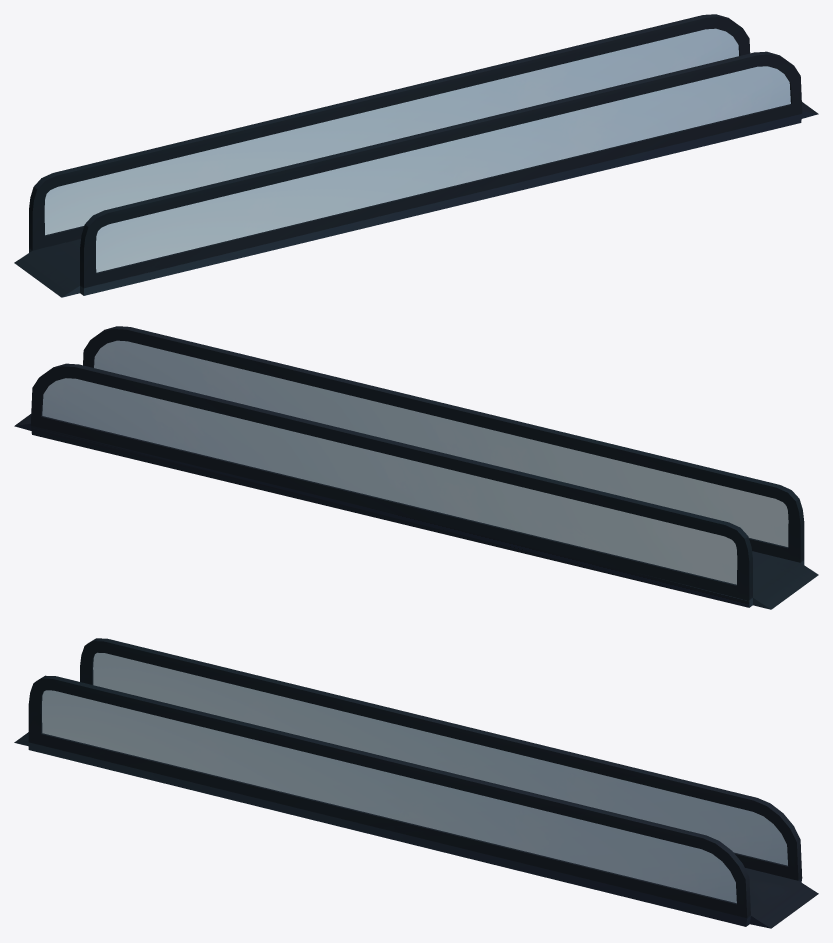
File: autowalk.fbx
3 views of the same model, one above another, from view 1: azimuth 30°, elevation 25°; view 2: azimuth 150°, elevation 25°; view 3: azimuth 330°, elevation 25° (orthographic).
Visible parts, largest first — view 1: Cube.004; view 2: Cube.004; view 3: Cube.004.
Part boxes in pixels (x1,y1,x2,y2): Cube.004: [14, 14, 818, 297]; Cube.004: [14, 326, 818, 609]; Cube.004: [14, 638, 818, 928].
Size of the model in its own units: 4183 by 526 by 416.
1 material, 1 textured.
